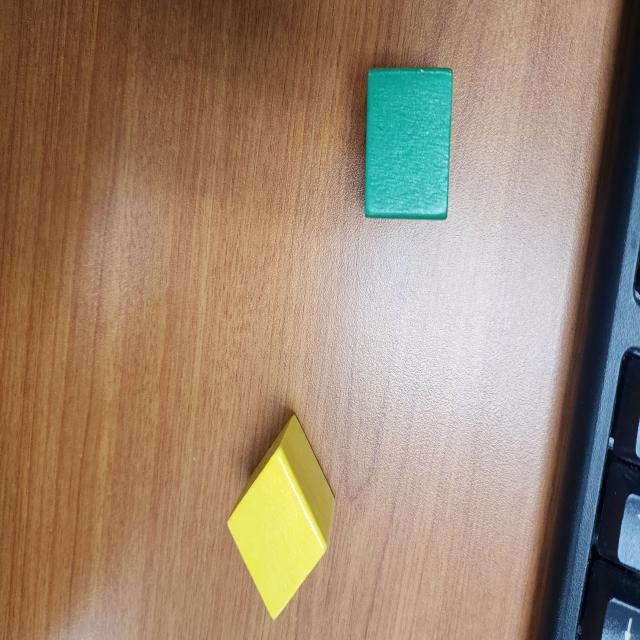green: (363, 68, 451, 222)
yellow: (227, 415, 336, 622)
